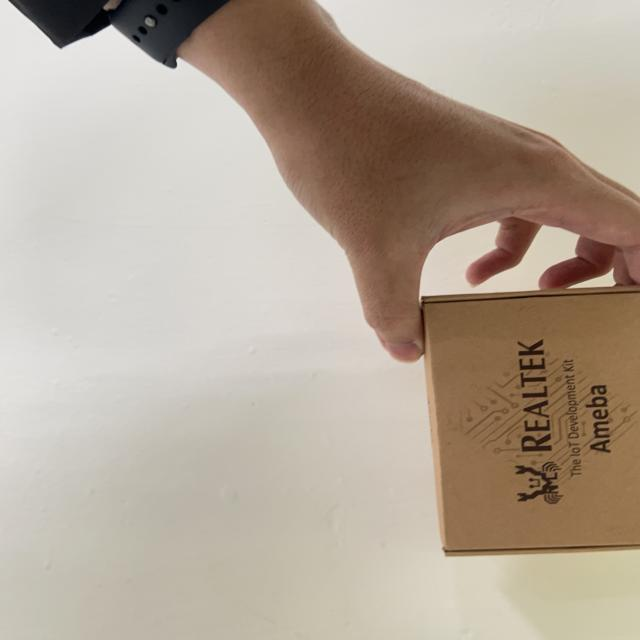box: (377, 267, 640, 568)
